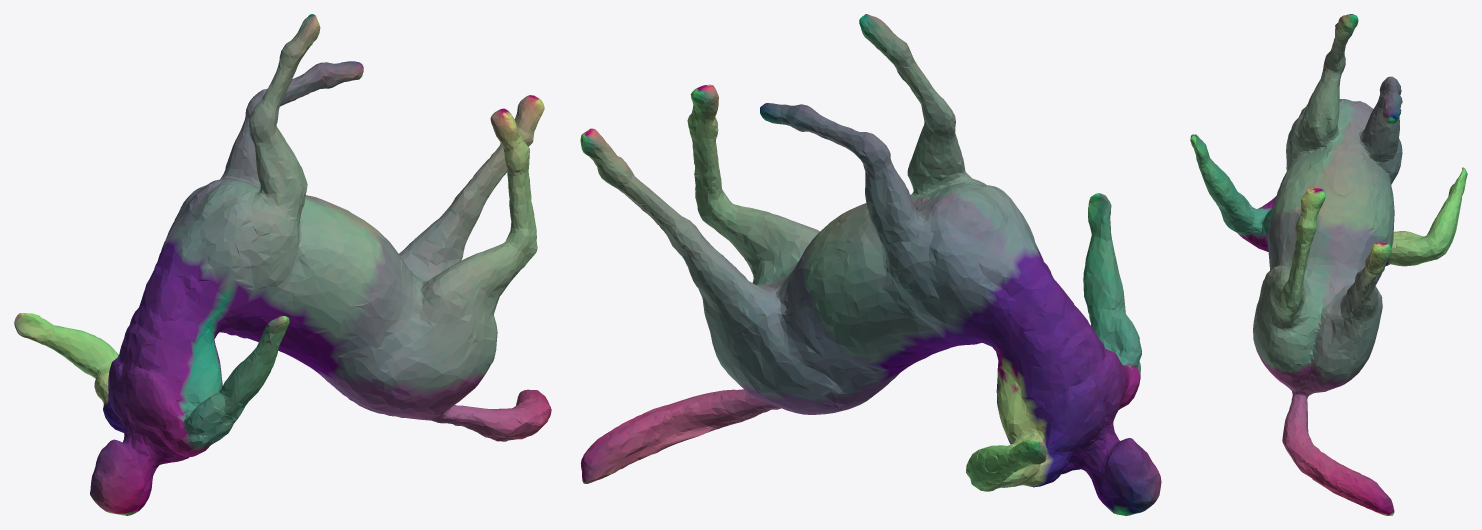
File: centaur-4.off.obj
The picture shows the model from 3 angles, left to right: view 1: azimuth 30°, elevation 25°; view 2: azimuth 150°, elevation 25°; view 3: azimuth 270°, elevation 25°; orthographic projection. The views are drawn at different scales.
Bounding box in the file's own units: 1.34 × 1.24 × 0.7744.
